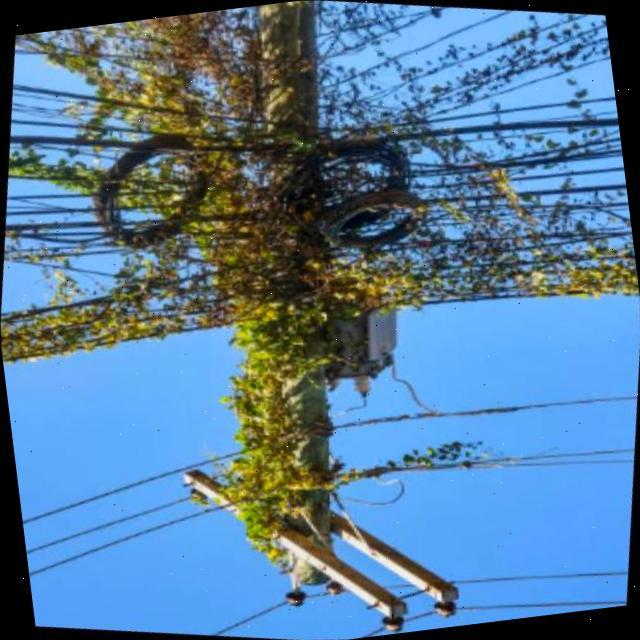critical vegetation: (97, 0, 450, 605)
